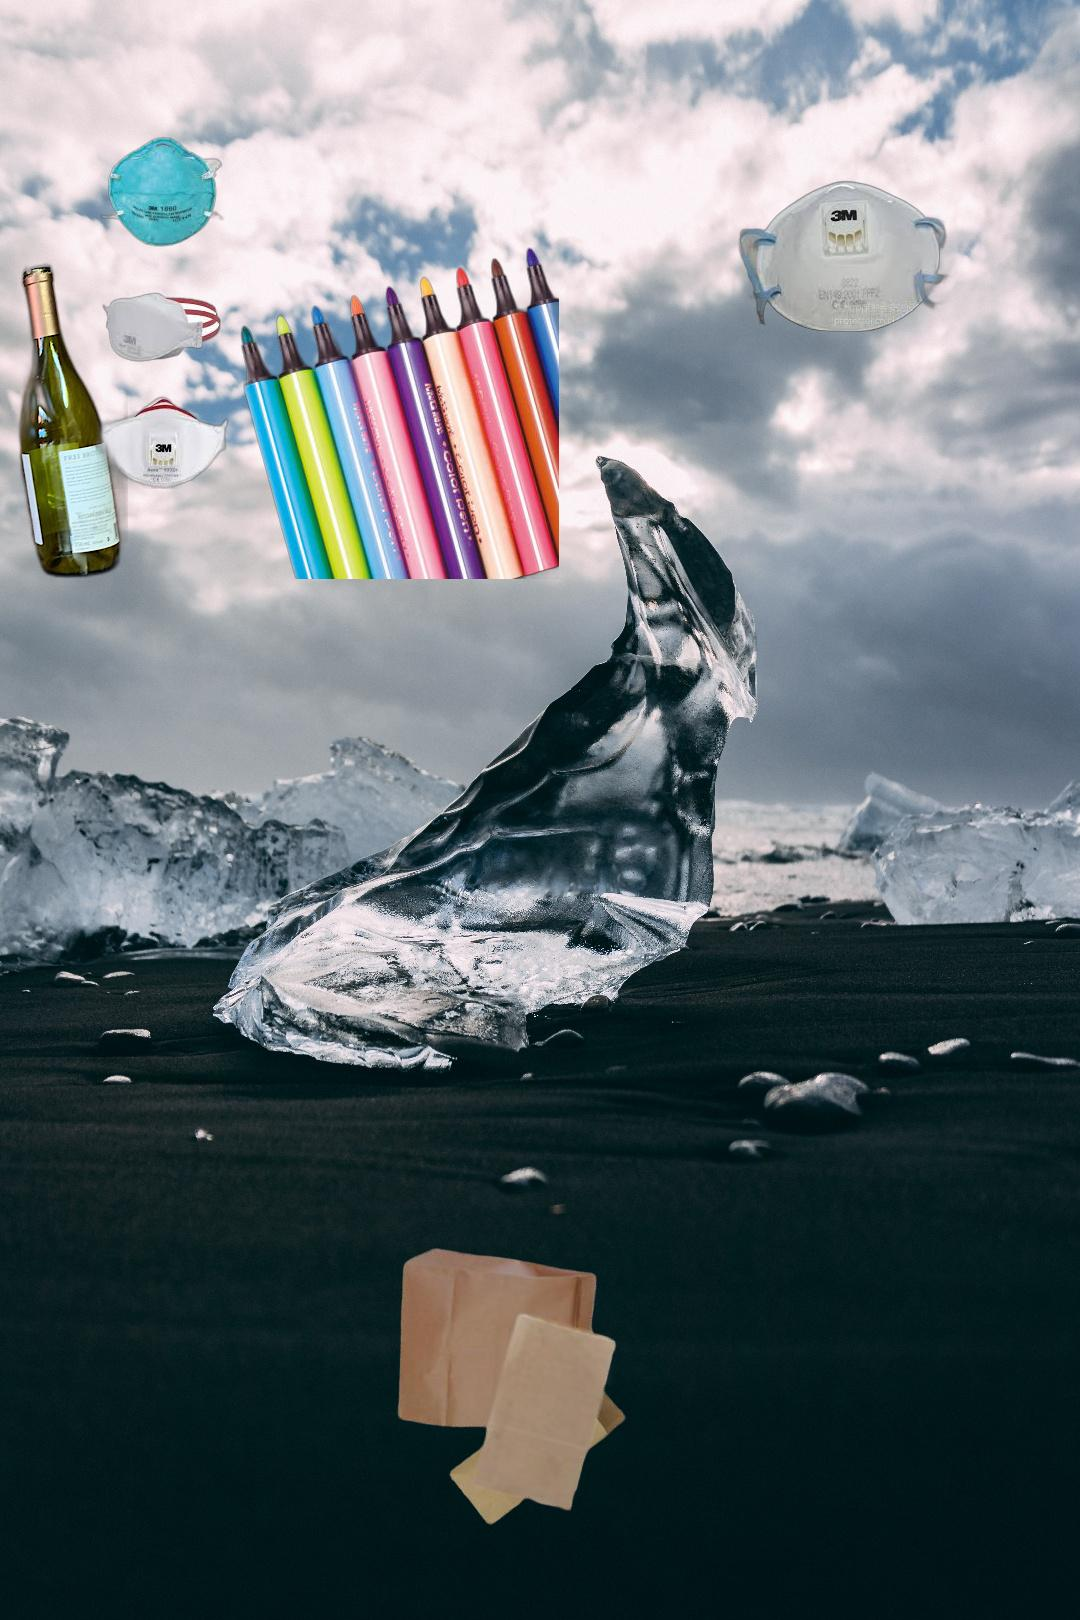glass: (14, 259, 128, 585)
paper-bag: (394, 1246, 629, 1528)
penholder: (240, 245, 559, 579)
trash: (93, 134, 230, 489), (736, 178, 957, 334)
